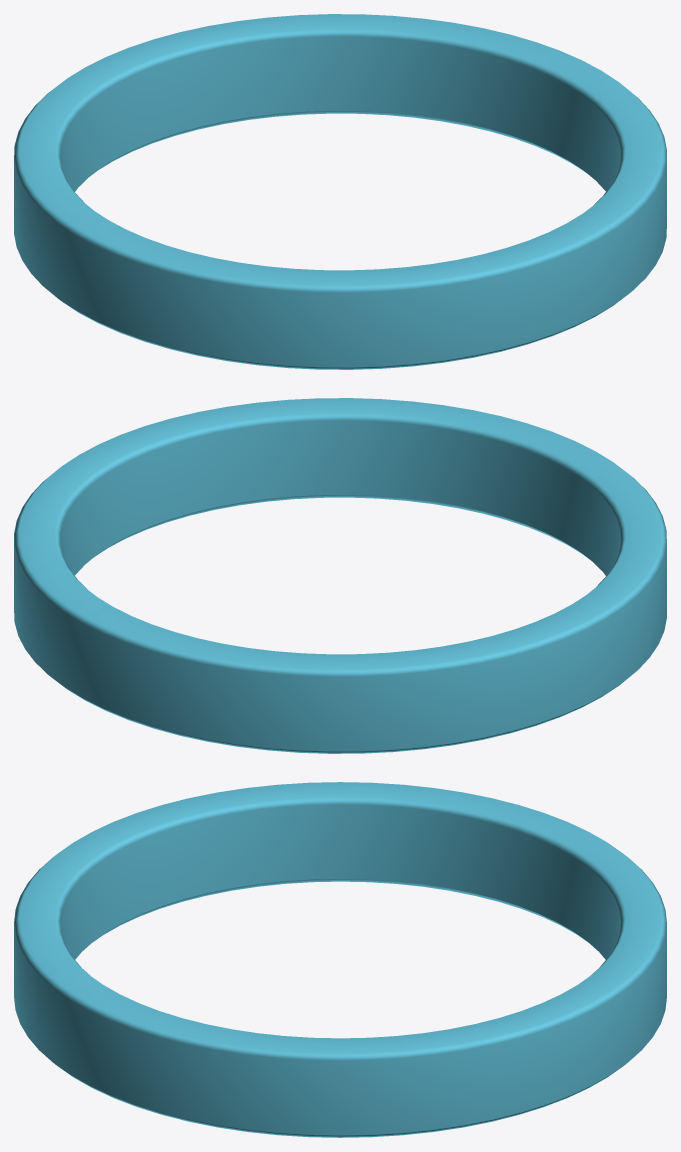
3 renders of one model, top to bottom at view 1: azimuth 30°, elevation 25°; view 2: azimuth 150°, elevation 25°; view 3: azimuth 270°, elevation 25°, orthographic.
Parts seen in each view (by area): view 1: seal_body; view 2: seal_body; view 3: seal_body.
Part boxes in pixels (<box>): seal_body: <box>14,14,666,369</box>; seal_body: <box>14,398,666,753</box>; seal_body: <box>14,782,666,1137</box>.
Size of the model in its own units: 0.07 by 0.01 by 0.07.
